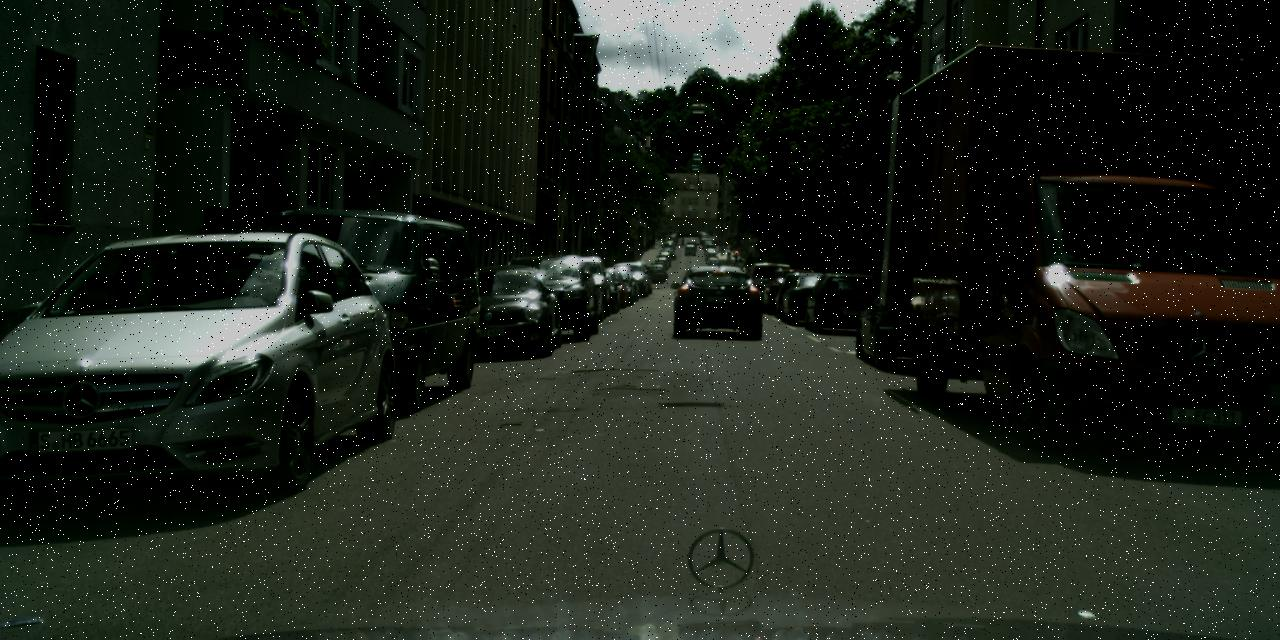ped: (680, 237, 684, 246)
